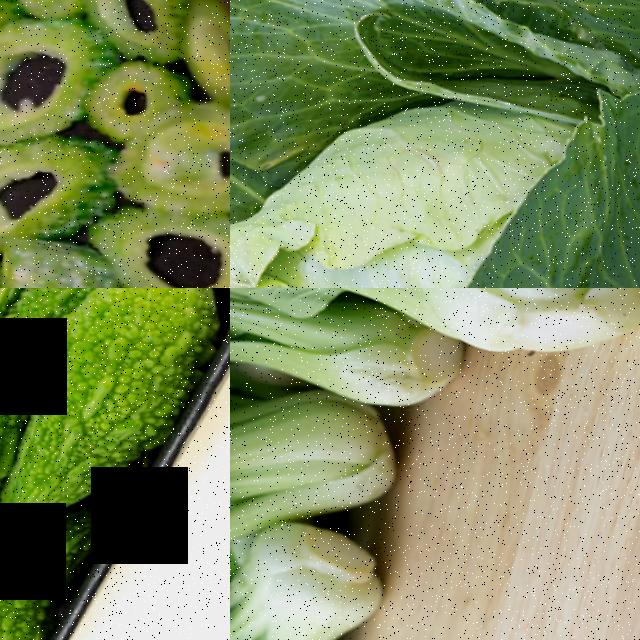bitter gourd: (11, 288, 178, 523)
bok choy: (230, 288, 471, 447), (318, 288, 640, 379), (230, 369, 400, 539), (230, 519, 383, 640)
cabbage: (230, 0, 640, 288)
